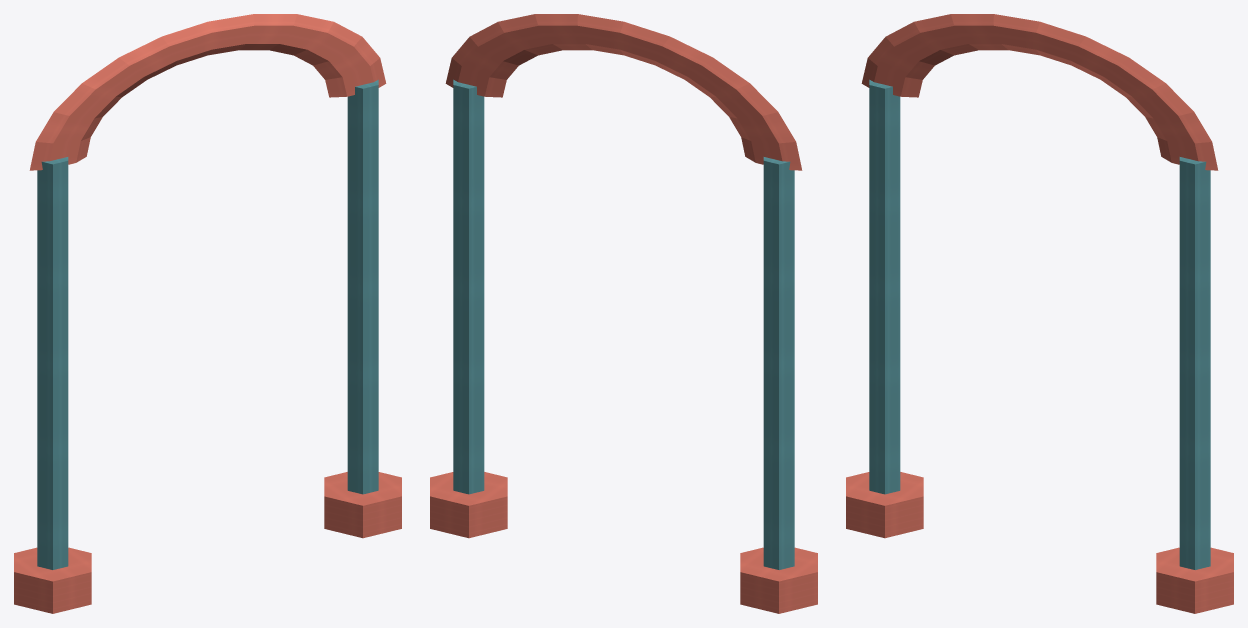
File: atlas100-s071-a09.lod2.glb
3 views of the same model, side by side, from view 1: azimuth 30°, elevation 25°; view 2: azimuth 150°, elevation 25°; view 3: azimuth 330°, elevation 25° (orthographic).
Visible parts, largest first — view 1: atlas100-s071-a09:part-004, atlas100-s071-a09:part-000, atlas100-s071-a09:part-002, atlas100-s071-a09:part-001, atlas100-s071-a09:part-003; view 2: atlas100-s071-a09:part-004, atlas100-s071-a09:part-000, atlas100-s071-a09:part-002, atlas100-s071-a09:part-001, atlas100-s071-a09:part-003; view 3: atlas100-s071-a09:part-004, atlas100-s071-a09:part-002, atlas100-s071-a09:part-000, atlas100-s071-a09:part-001, atlas100-s071-a09:part-003.
Part boxes in pixels (x1=…): atlas100-s071-a09:part-004: x1=29, y1=14, x2=386, y2=170; atlas100-s071-a09:part-000: x1=37, y1=157, x2=68, y2=569; atlas100-s071-a09:part-002: x1=347, y1=79, x2=378, y2=494; atlas100-s071-a09:part-001: x1=14, y1=547, x2=91, y2=613; atlas100-s071-a09:part-003: x1=324, y1=472, x2=401, y2=538; atlas100-s071-a09:part-004: x1=445, y1=14, x2=802, y2=170; atlas100-s071-a09:part-000: x1=763, y1=157, x2=794, y2=569; atlas100-s071-a09:part-002: x1=453, y1=79, x2=484, y2=494; atlas100-s071-a09:part-001: x1=740, y1=547, x2=817, y2=613; atlas100-s071-a09:part-003: x1=430, y1=472, x2=507, y2=538; atlas100-s071-a09:part-004: x1=861, y1=14, x2=1218, y2=170; atlas100-s071-a09:part-002: x1=1179, y1=157, x2=1210, y2=569; atlas100-s071-a09:part-000: x1=869, y1=79, x2=900, y2=494; atlas100-s071-a09:part-001: x1=846, y1=472, x2=923, y2=538; atlas100-s071-a09:part-003: x1=1156, y1=547, x2=1233, y2=613.
Size of the model in its own units: 2.5 by 3.3 by 0.433.
Materials: 2 (2 with a texture image).
